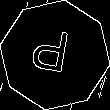P_S: (33, 27, 77, 83)
